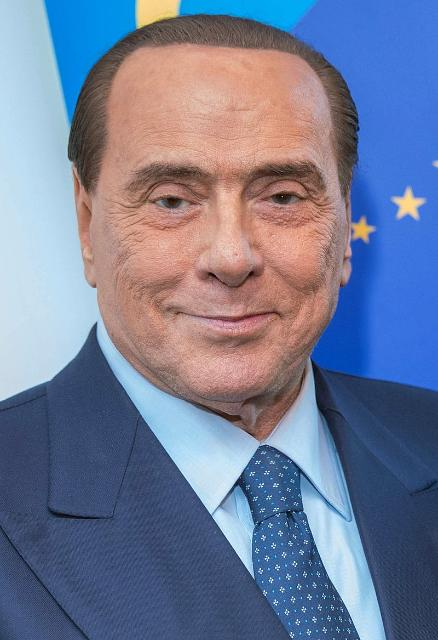crows_feet: (108, 193, 144, 224), (308, 192, 338, 220)
masseter: (110, 250, 140, 298)
